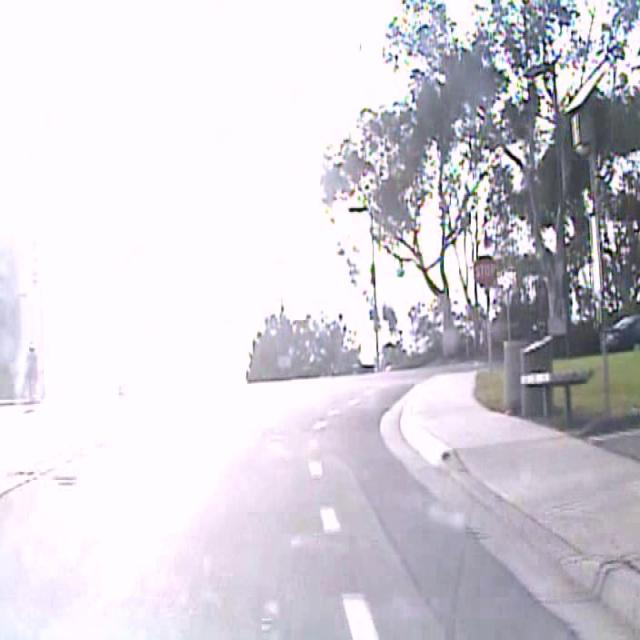stop: (473, 253, 497, 288)
